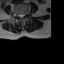CCS_stenosis: (21, 12, 22, 19)
LFS_normal: (24, 10, 26, 17)
LLS_normal: (22, 12, 24, 18)
RFS_normal: (17, 12, 19, 18)
RLS_normal: (19, 11, 21, 19)
